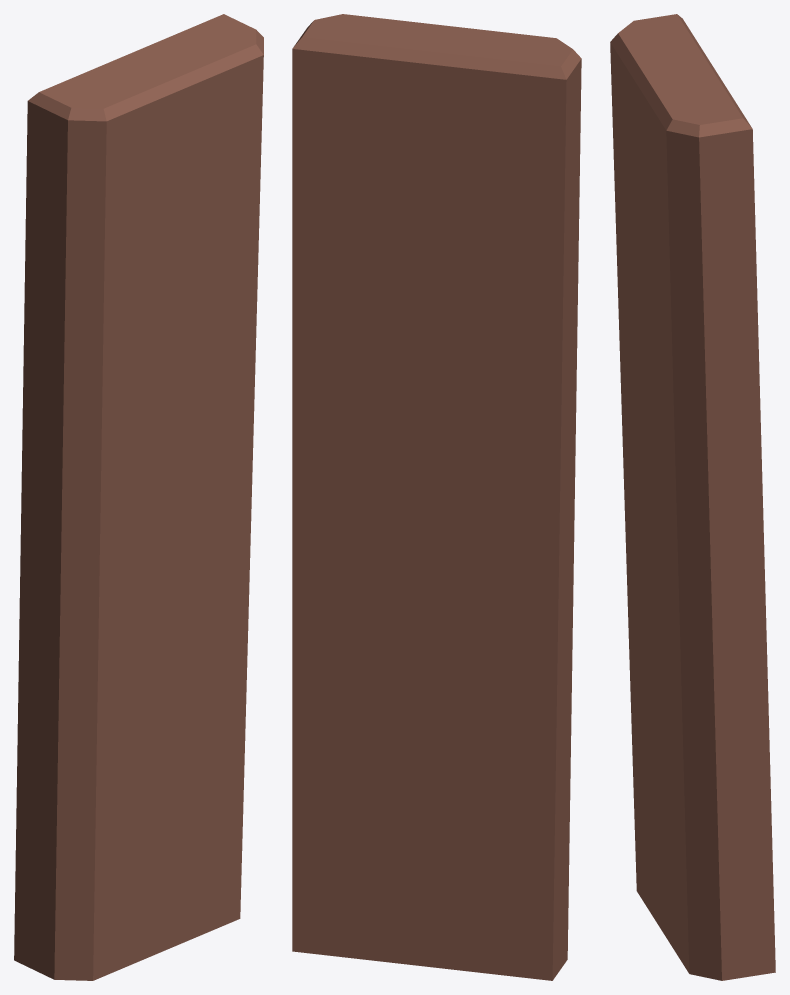
The model's file is maskboard1.fbx.
The picture shows the model from 3 angles, left to right: view 1: azimuth 30°, elevation 25°; view 2: azimuth 150°, elevation 25°; view 3: azimuth 270°, elevation 25°; orthographic projection. The views are drawn at different scales.
Visible parts, largest first — view 1: maskboard1; view 2: maskboard1; view 3: maskboard1.
Boxes of the visible parts, x1,y1,x2,y2 form: maskboard1: (14, 14, 263, 980); maskboard1: (292, 14, 581, 980); maskboard1: (610, 14, 775, 980).
Bounding box in the file's own units: 28.52 × 98.29 × 17.14.
